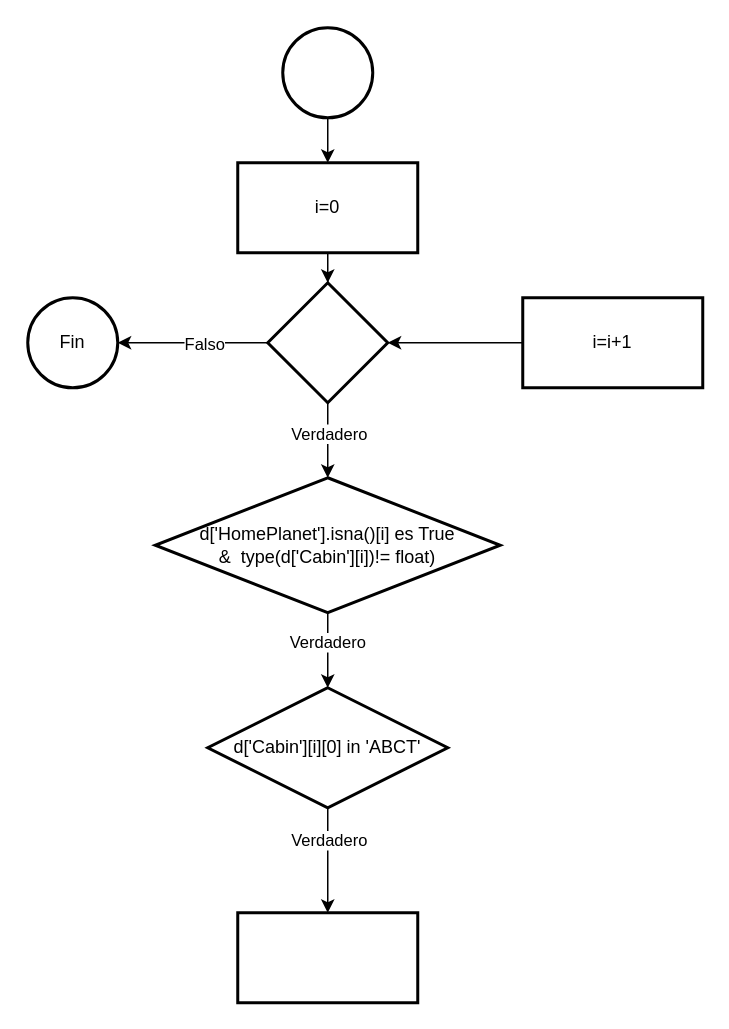
Image size: 729x1029. Some labels were removed from this diagram. Here are the shapes that lost their labels. From the top down, the box of each, then its label:
(280, 26, 374, 118): Inicio
(266, 280, 388, 404): i<len(d)
(236, 910, 418, 1004): d['HomePlanet'][i]='Europa'
